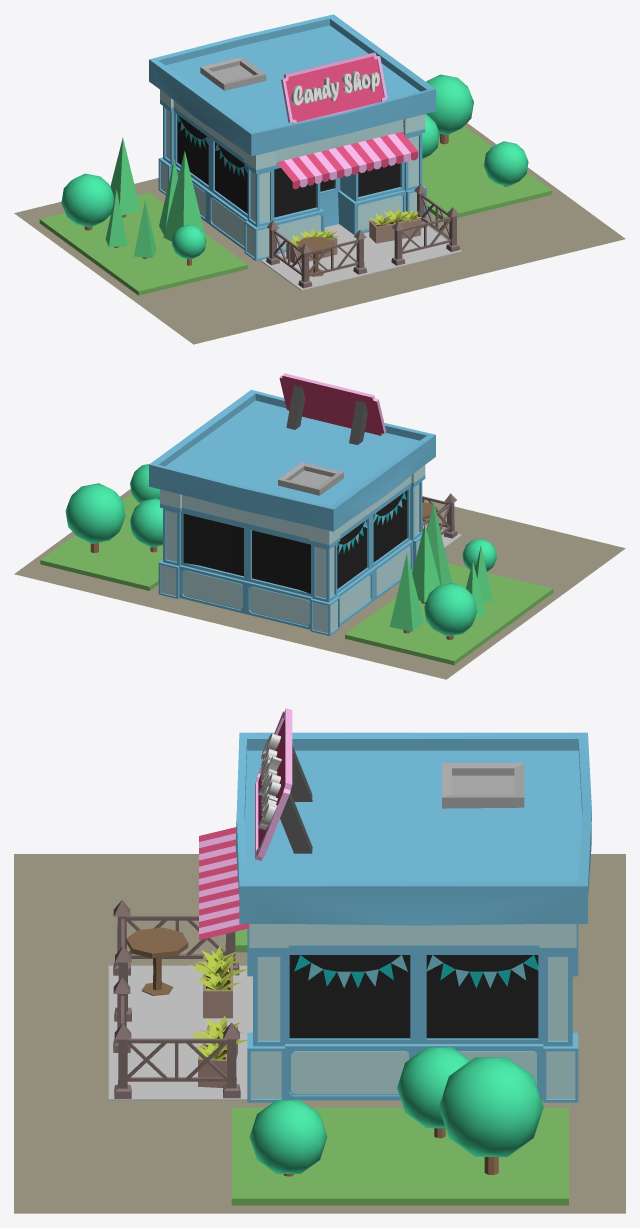
The model's file is finalPlayerPark.gltf.
3 views of the same model, one above another, from view 1: azimuth 30°, elevation 25°; view 2: azimuth 150°, elevation 25°; view 3: azimuth 270°, elevation 25° (orthographic). The views are drawn at different scales.
Visible parts, largest first — view 1: Cube, Plane, Cube.003, Icosphere, Cube.004, Plane.001, Plane.002, Pine Tree, Pine Tree.001, Cube.002, Text.001, Pine Tree.002 (+8 smaller); view 2: Cube, Plane, Cube.003, Icosphere, Plane.001, Pine Tree.002, Cube.002, Pine Tree.003, Cube.001, Pine Tree.001, Pine Tree, Cube.006; view 3: Cube, Plane, Cube.003, Icosphere, Cube.004, Plane.002, Cube.002, Cube.007, Plane.001, Cube.012, Plane.003, Cube.014 (+5 smaller).
Boxes of the visible parts, x1,y1,x2,y2 form: Cube: (149, 14, 435, 260); Plane: (14, 123, 625, 344); Cube.003: (39, 126, 552, 295); Icosphere: (61, 74, 528, 265); Cube.004: (260, 224, 462, 290); Plane.001: (281, 52, 387, 123); Plane.002: (277, 132, 418, 189); Pine Tree: (163, 151, 205, 241); Pine Tree.001: (105, 189, 156, 258); Cube.002: (200, 57, 266, 90); Text.001: (291, 71, 379, 105); Pine Tree.002: (110, 137, 140, 217); Cube: (149, 389, 435, 635); Plane: (14, 489, 625, 679); Cube.003: (40, 493, 553, 665); Icosphere: (65, 464, 496, 639); Plane.001: (279, 373, 385, 435); Pine Tree.002: (390, 553, 423, 633); Cube.002: (278, 462, 343, 495); Pine Tree.003: (412, 524, 440, 603); Cube.001: (286, 385, 367, 444); Pine Tree.001: (466, 545, 492, 619); Pine Tree: (427, 502, 452, 585); Cube.006: (423, 493, 457, 538); Cube: (235, 732, 591, 1102); Plane: (14, 854, 625, 1213); Cube.003: (231, 929, 568, 1205); Icosphere: (249, 1047, 543, 1176); Cube.004: (108, 965, 310, 1100); Plane.002: (199, 827, 249, 940); Cube.002: (442, 763, 524, 808); Cube.007: (127, 1022, 240, 1098); Plane.001: (255, 708, 292, 860); Cube.012: (189, 946, 248, 1018); Plane.003: (294, 955, 538, 988); Cube.014: (126, 927, 188, 995).
Size of the model in its own units: 2 by 0.765 by 1.44.
